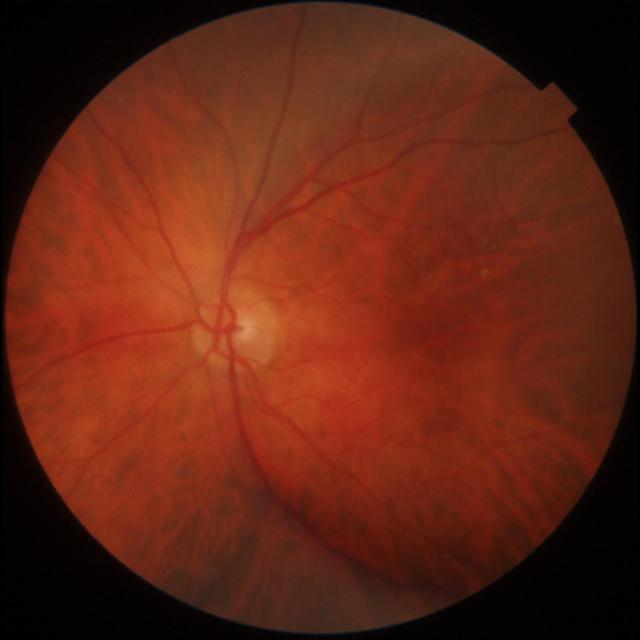OC: (234, 319, 260, 344)
OD: (192, 291, 278, 371)
